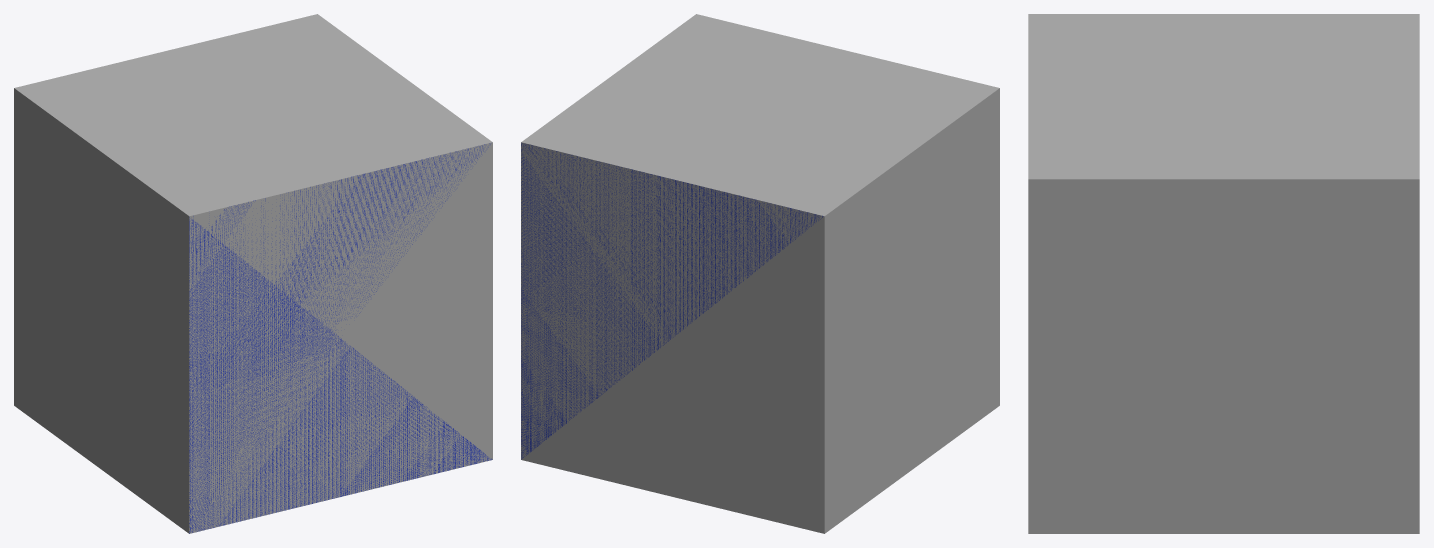
The model's file is satellite.obj.
The picture shows the model from 3 angles, left to right: view 1: azimuth 30°, elevation 25°; view 2: azimuth 150°, elevation 25°; view 3: azimuth 270°, elevation 25°; orthographic projection. The views are drawn at different scales.
Size of the model in its own units: 0.4 by 0.4 by 0.4.
